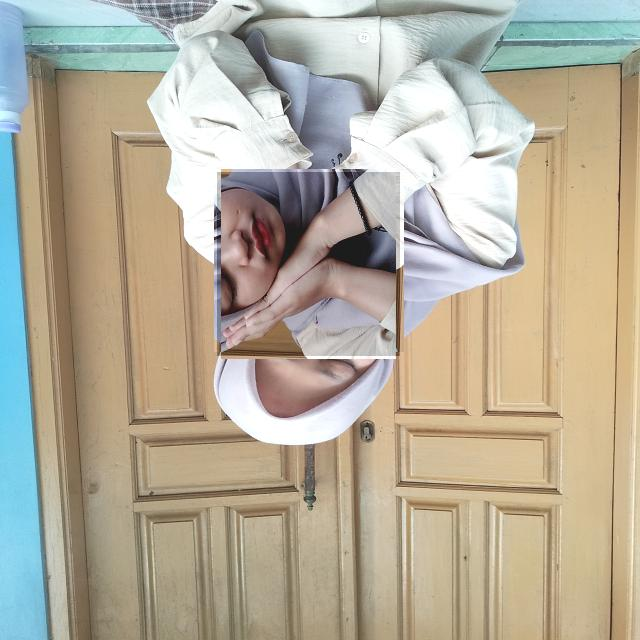tidur: (217, 172, 400, 356)
